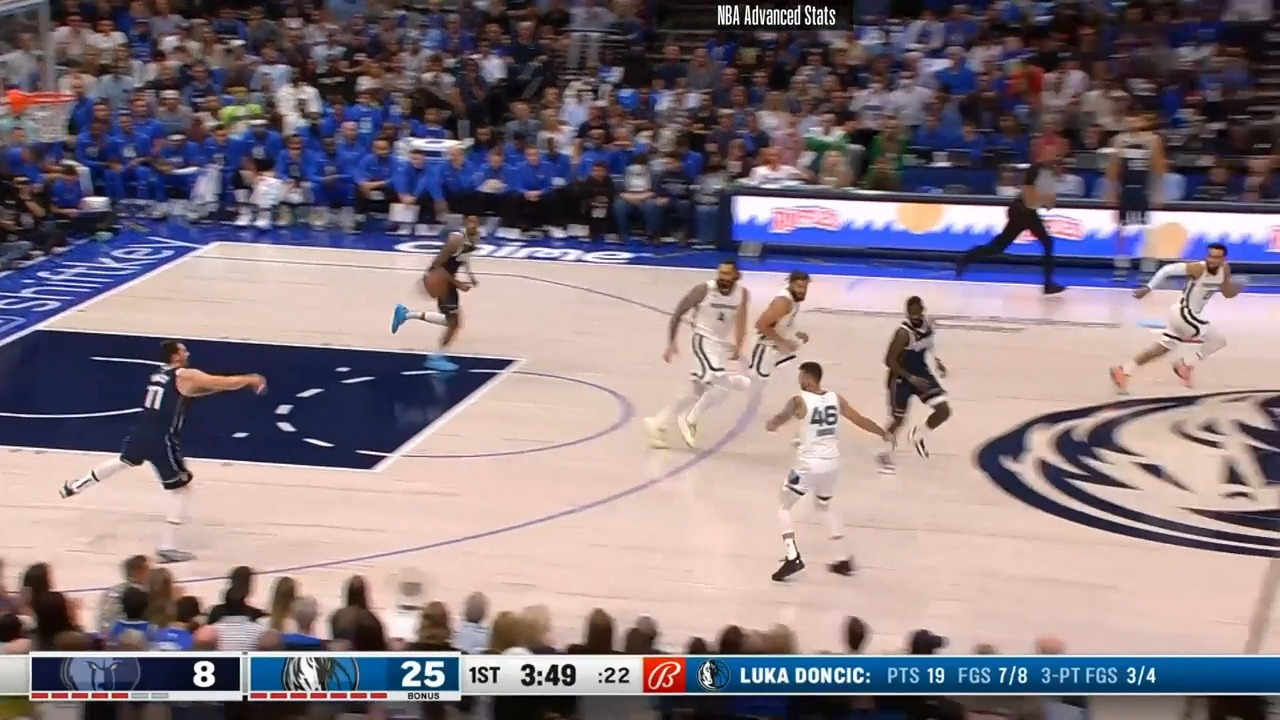player: (760, 362, 896, 591), (1108, 239, 1239, 397), (135, 335, 257, 499), (662, 254, 760, 434), (389, 205, 486, 359), (879, 294, 957, 470), (731, 261, 814, 423)
referee: (956, 144, 1075, 310)
